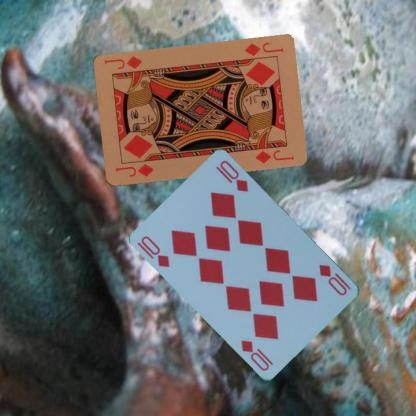10d: (316, 262, 352, 297), (138, 233, 172, 269)
Jd: (241, 40, 284, 61), (113, 161, 156, 179)
